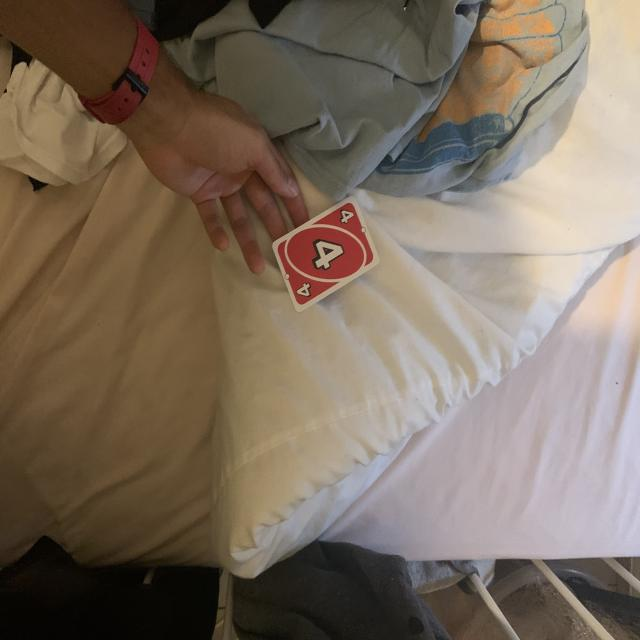lred-4: (334, 207, 355, 227)
